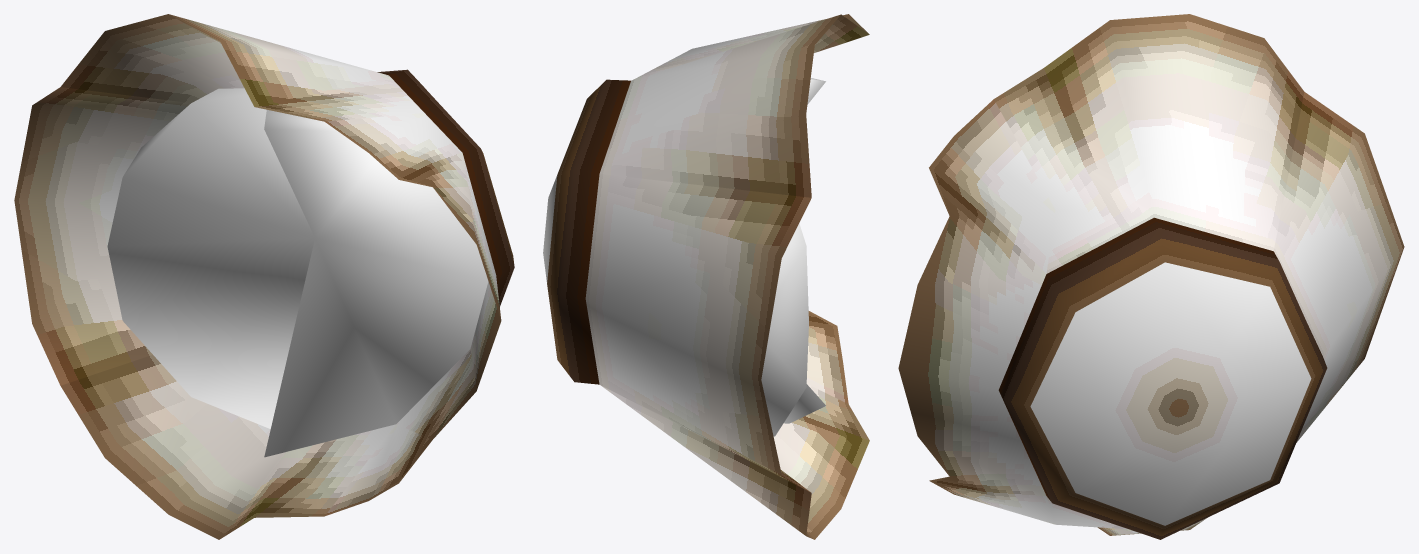
File: hlmt_kaffiyeh.dae
3 renders of one model, left to right at view 1: azimuth 30°, elevation 25°; view 2: azimuth 150°, elevation 25°; view 3: azimuth 270°, elevation 25°, orthographic. The views are drawn at different scales.
Parts seen in each view (by area): view 1: hlmt_kaffiyeh; view 2: hlmt_kaffiyeh; view 3: hlmt_kaffiyeh.
Part boxes in pixels (x1=…): hlmt_kaffiyeh: x1=14, y1=14, x2=514, y2=539; hlmt_kaffiyeh: x1=543, y1=14, x2=869, y2=539; hlmt_kaffiyeh: x1=898, y1=14, x2=1404, y2=539.
Size of the model in its own units: 22.14 by 32.32 by 28.72.
Materials: 2 (2 with a texture image).
